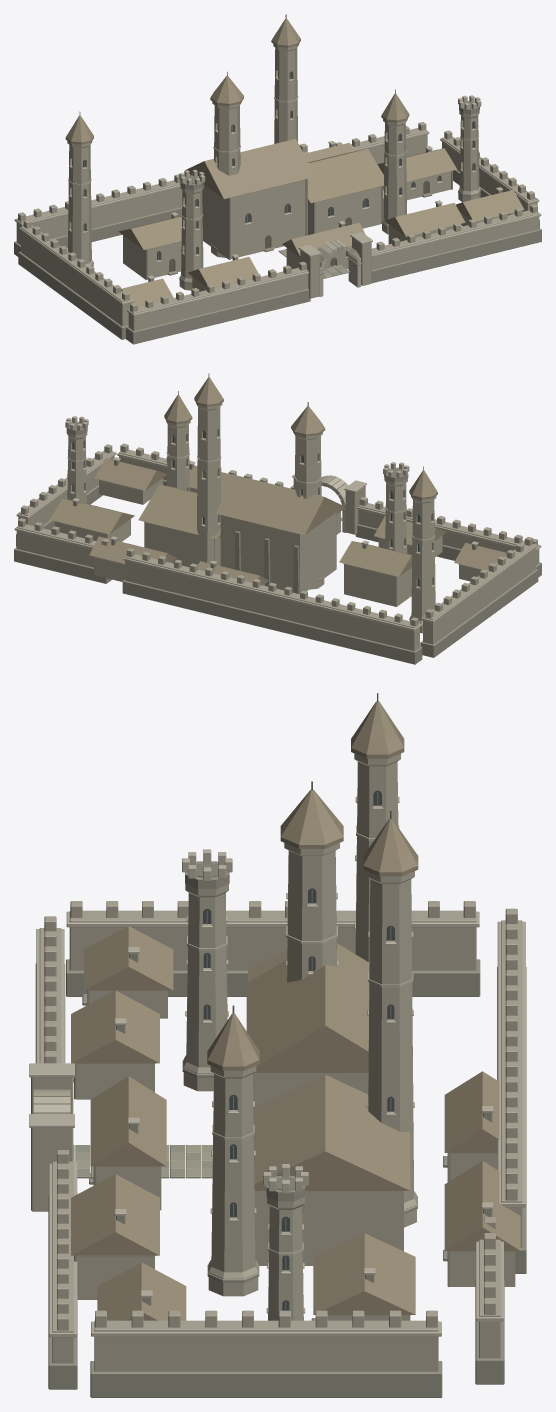
Rendered from castle.glb.
The picture shows the model from 3 angles, top to bottom: view 1: azimuth 30°, elevation 25°; view 2: azimuth 150°, elevation 25°; view 3: azimuth 270°, elevation 25°; orthographic projection. The views are drawn at different scales.
Parts seen in each view (by area): view 1: Main keep, Keep pitched roof, Curtain 4 stone wall, Curtain 2 stone wall, Curtain 0 stone wall, Curtain 5 stone wall, East hall roof, West watchtower carved shaft, Curtain 4 embedded foundation, Curtain 5 embedded foundation, East hall, East tower carved shaft (+28 smaller); view 2: Curtain 2 stone wall, Main keep, Keep pitched roof, Curtain 2 embedded foundation, High tower carved shaft, Curtain 0 stone wall, West watchtower carved shaft, East hall roof, Courtyard house 00, Curtain 3 stone wall, Curtain 4 stone wall, Curtain 0 embedded foundation (+27 smaller); view 3: Curtain 1 stone wall, East hall roof, Keep pitched roof, High tower carved shaft, Curtain 0 stone wall, Curtain 1 embedded foundation, East tower carved shaft, Courtyard roof 04, Gate tower carved shaft, East hall, Courtyard roof 03, Courtyard roof 02 (+32 smaller).
Part boxes in pixels (x1,y1,x2,y2): Main keep: (202, 179, 305, 259); Keep pitched roof: (185, 138, 315, 198); Curtain 4 stone wall: (128, 267, 308, 330); Curtain 2 stone wall: (16, 151, 308, 244); Curtain 0 stone wall: (21, 225, 132, 326); Curtain 5 stone wall: (371, 210, 539, 269); East hall roof: (308, 149, 383, 203); West watchtower carved shaft: (67, 141, 93, 266); Curtain 4 embedded foundation: (126, 288, 310, 344); Curtain 5 embedded foundation: (371, 228, 541, 283); East hall: (308, 186, 381, 234); East tower carved shaft: (382, 119, 407, 234); Curtain 2 stone wall: (125, 554, 419, 651); Main keep: (220, 512, 336, 592); Keep pitched roof: (214, 474, 343, 535); Curtain 2 embedded foundation: (122, 579, 422, 664); High tower carved shaft: (196, 403, 222, 565); Curtain 0 stone wall: (423, 542, 535, 644); West watchtower carved shaft: (410, 496, 436, 633); East hall roof: (138, 484, 220, 539); Courtyard house 00: (344, 564, 411, 606); Curtain 3 stone wall: (16, 524, 95, 567); Curtain 4 stone wall: (358, 503, 539, 565); Curtain 0 embedded foundation: (420, 569, 538, 657); Curtain 1 stone wall: (94, 1320, 438, 1371); East hall roof: (253, 1074, 410, 1190); Keep pitched roof: (246, 943, 369, 1072); High tower carved shaft: (366, 871, 416, 1227); Curtain 0 stone wall: (69, 910, 476, 970); Curtain 1 embedded foundation: (90, 1361, 442, 1397); East tower carved shaft: (208, 1066, 258, 1296); Courtyard roof 04: (313, 1233, 415, 1314); Gate tower carved shaft: (183, 884, 228, 1091); East hall: (254, 1191, 403, 1265); Courtyard roof 03: (71, 1174, 159, 1255); Courtyard roof 02: (90, 1076, 166, 1166).
Bounding box in the file's own units: 58.35 × 27.1 × 29.58.
